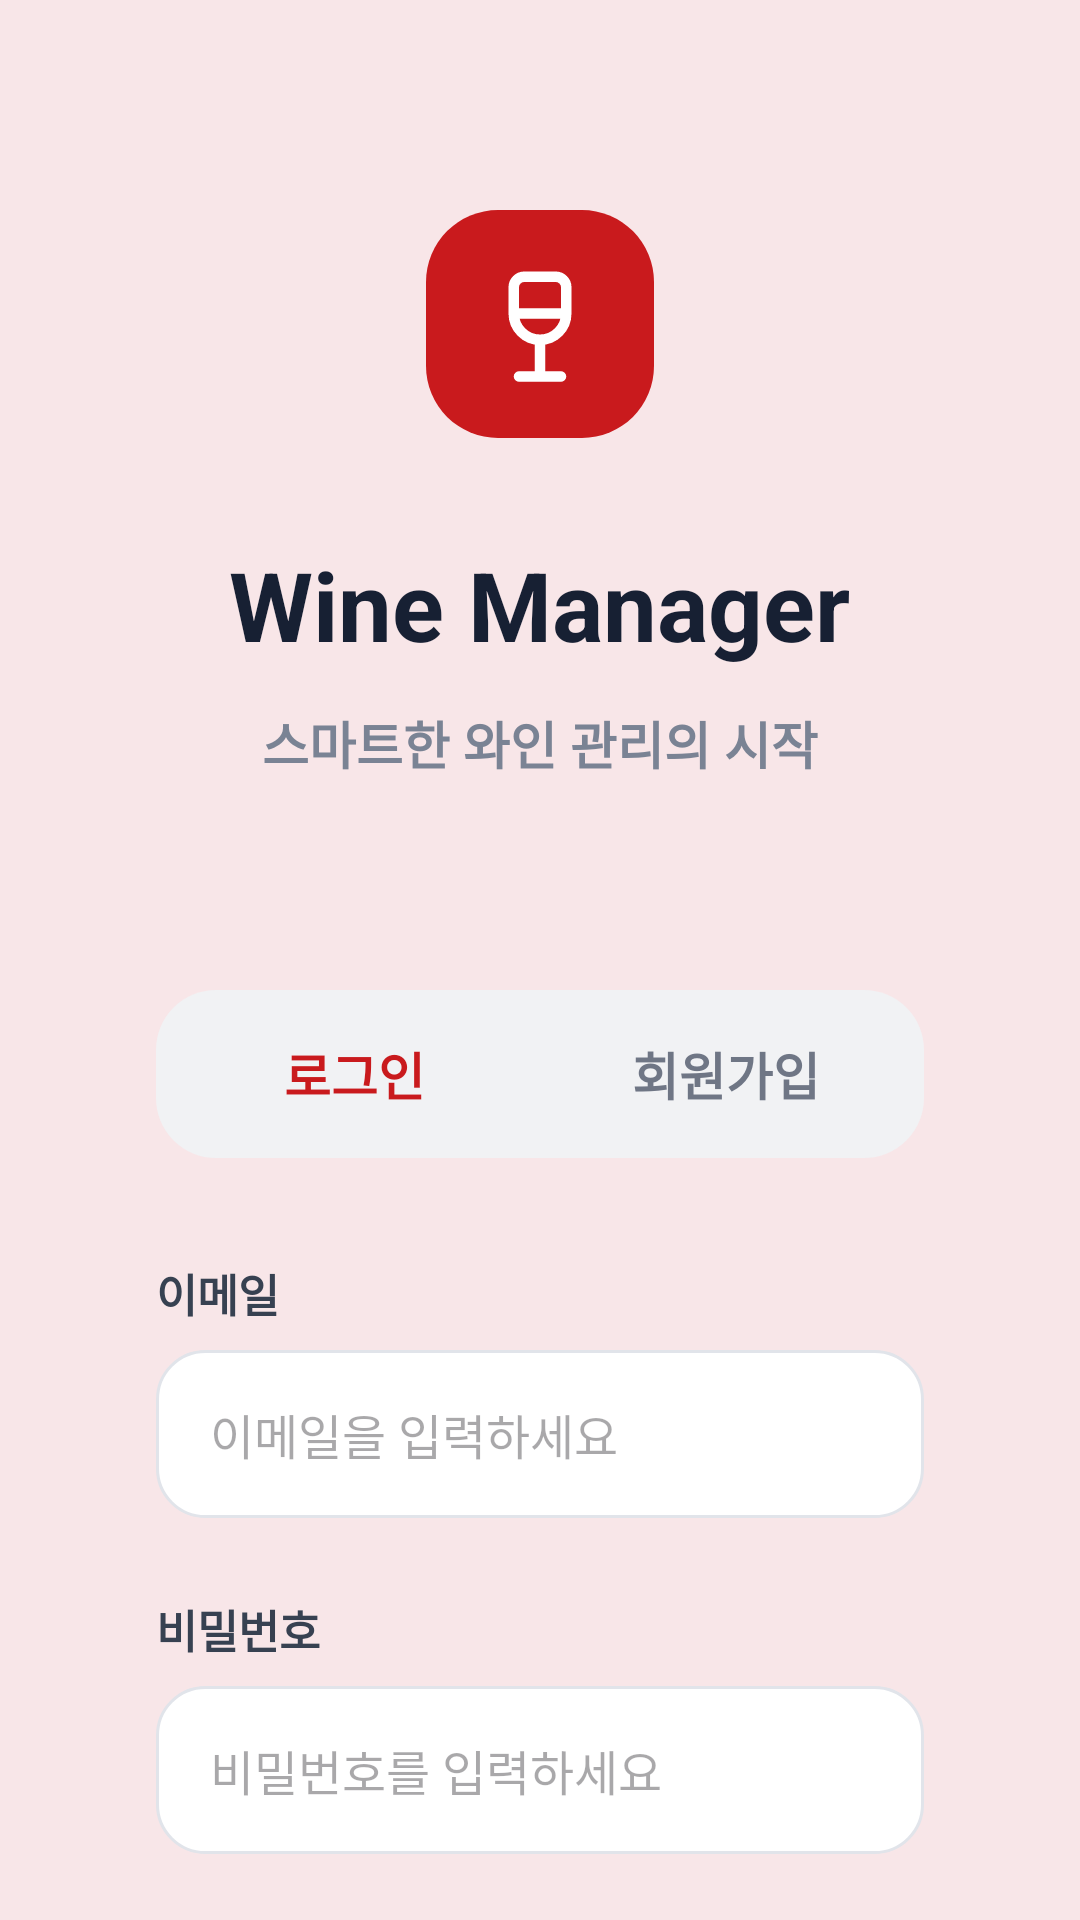

Icons on this 1080x1920 Android screen, each with its box as (x1, y1, x2, y2):
wine: (508, 271, 572, 382)
